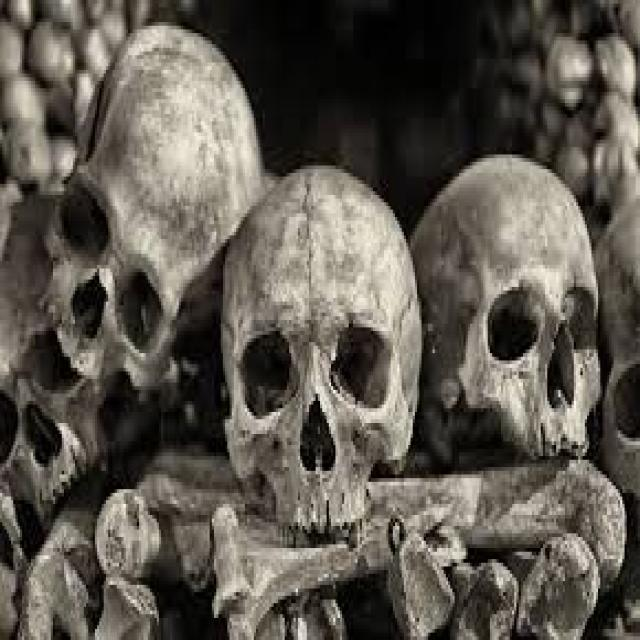skull: (217, 154, 426, 535)
